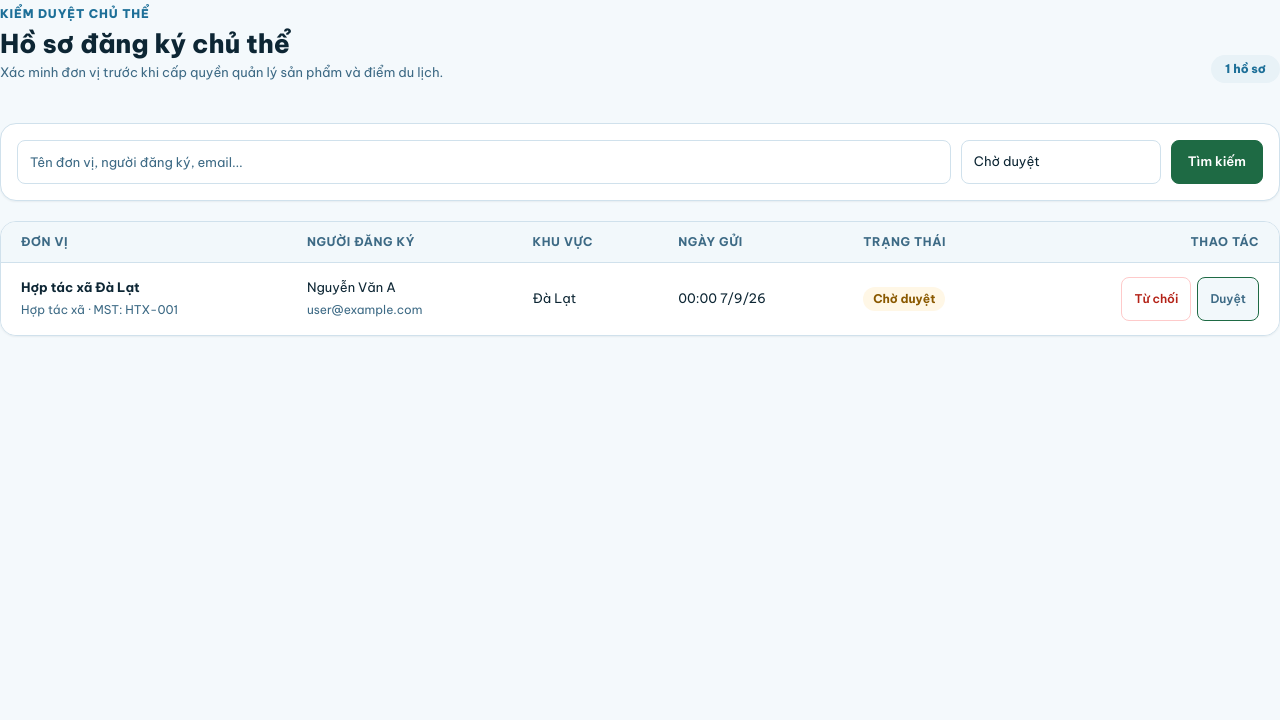
Test: AdminSubjectApplicationsView › hien thong bao thanh cong role=status sau khi duyet va sau khi tu choi (C12)
Click the button "Duyệt" at (1228, 299), box x1=1197 y1=277 x2=1259 y2=321
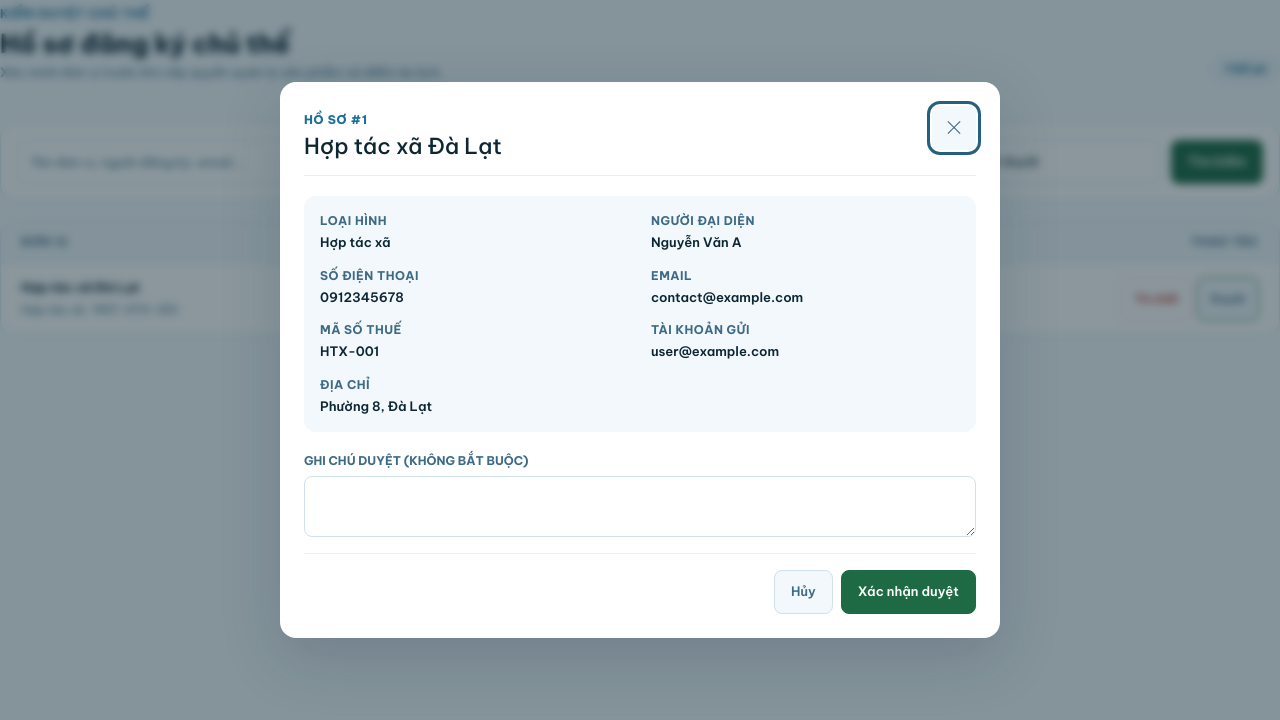
Submit the form "Ghi chú duyệt (không bắt buộc) Hủy Xác nhận duyệt", box x1=304 y1=452 x2=976 y2=614
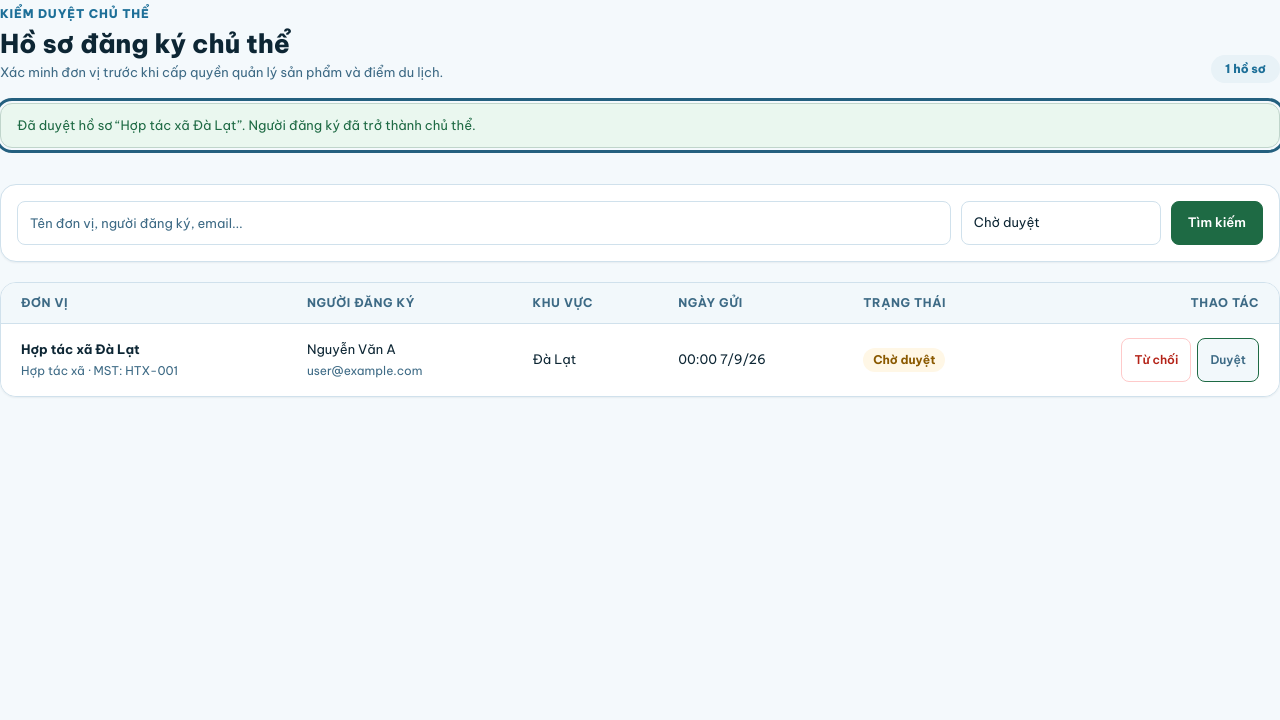
Expected: the message with class "alert-success" shows "Đã duyệt hồ sơ “Hợp tác xã Đà Lạt”", x1=17 y1=117 x2=476 y2=133
Click the button "Từ chối" at (1156, 360), box x1=1121 y1=338 x2=1191 y2=382
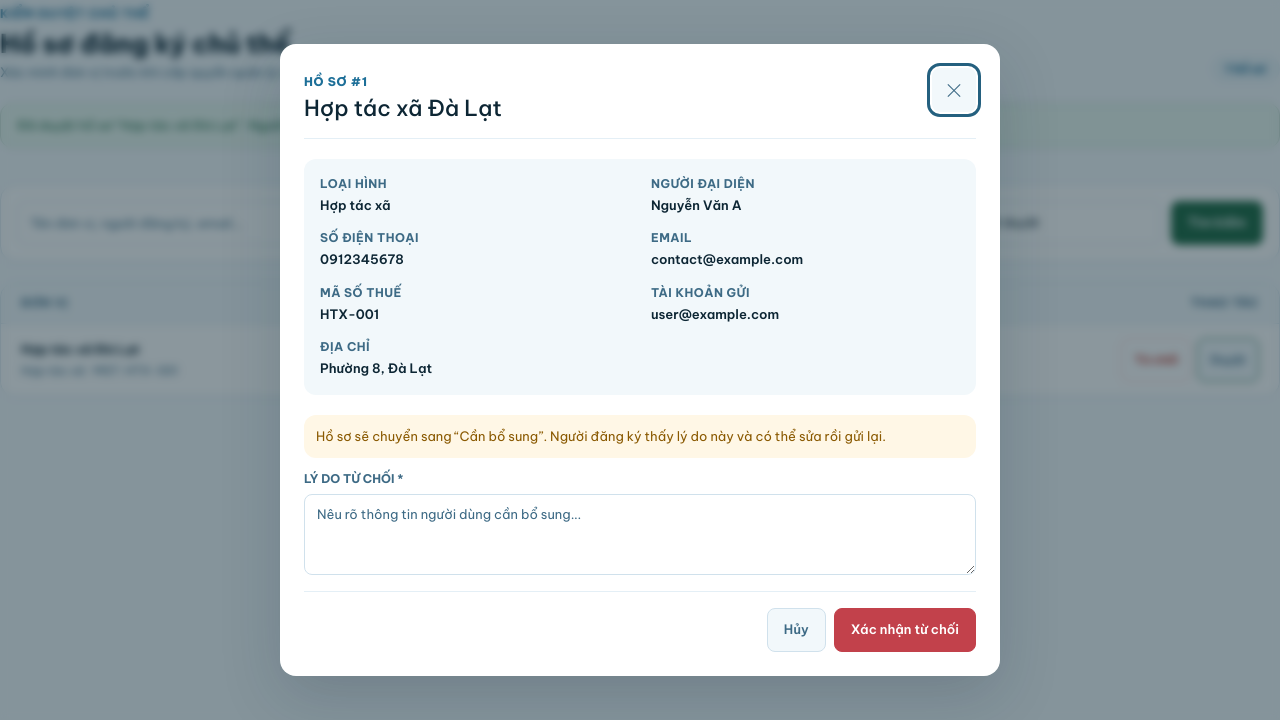
Expected: the text with class "reject-hint" shows "Cần bổ sung", x1=316 y1=428 x2=886 y2=444
Type "Thiếu giấy phép" into the text box labelled "Lý do từ chối *" at (640, 534), box x1=304 y1=494 x2=976 y2=575
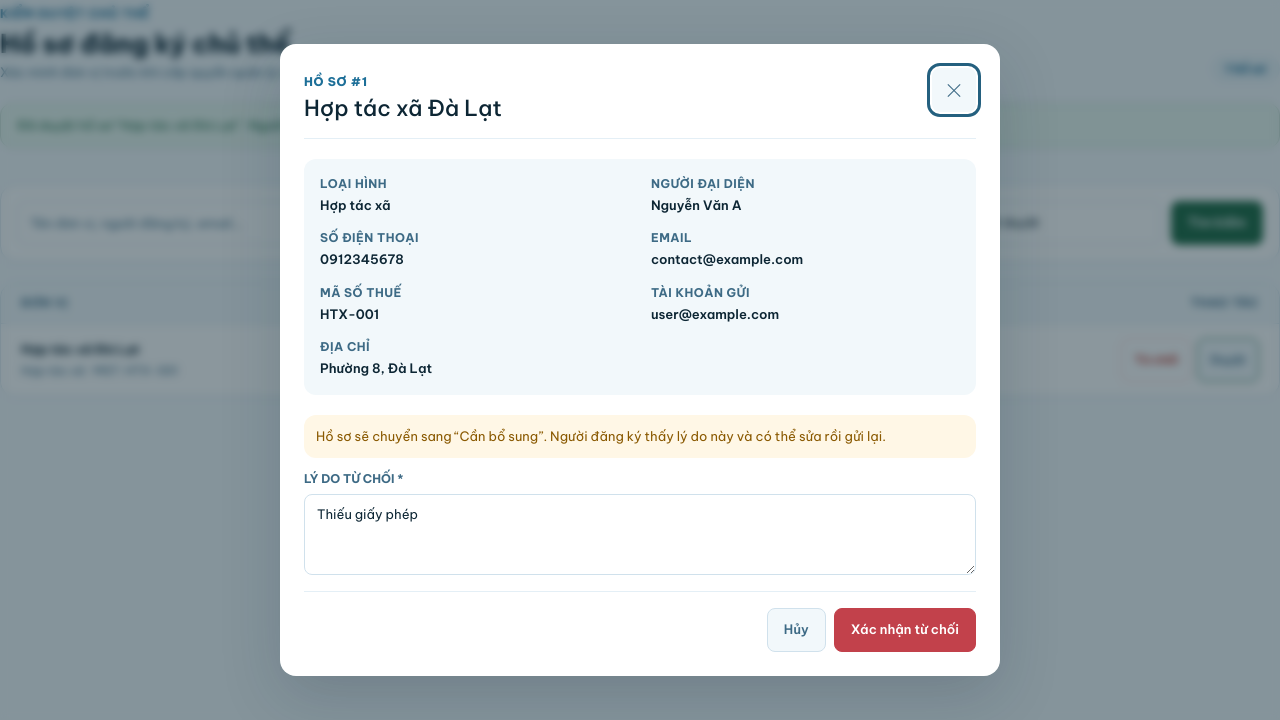
Submit the 2nd form, box x1=304 y1=415 x2=976 y2=652
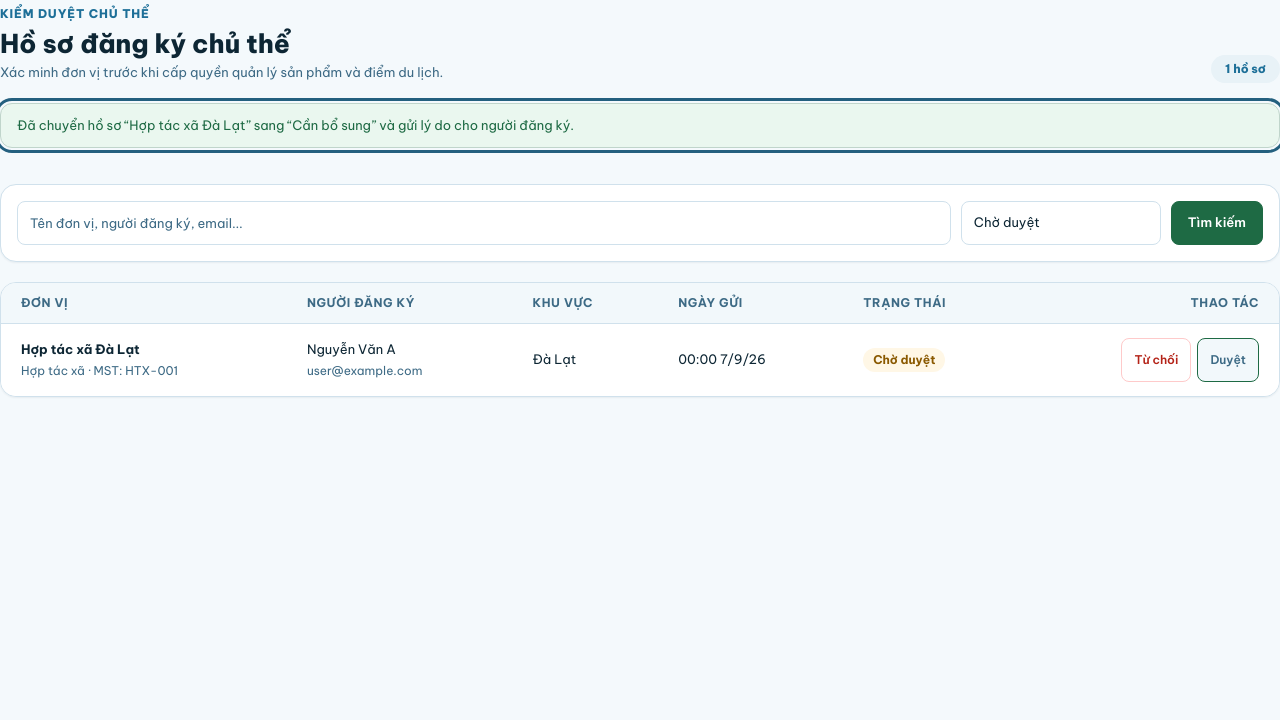
Expected: the message with class "alert-success" shows "Cần bổ sung", x1=17 y1=117 x2=574 y2=133
